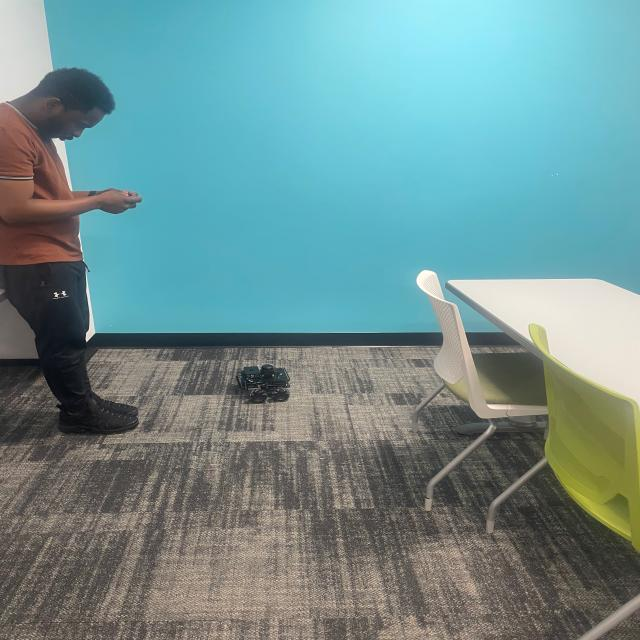ArduinoCar: (233, 359, 291, 403)
